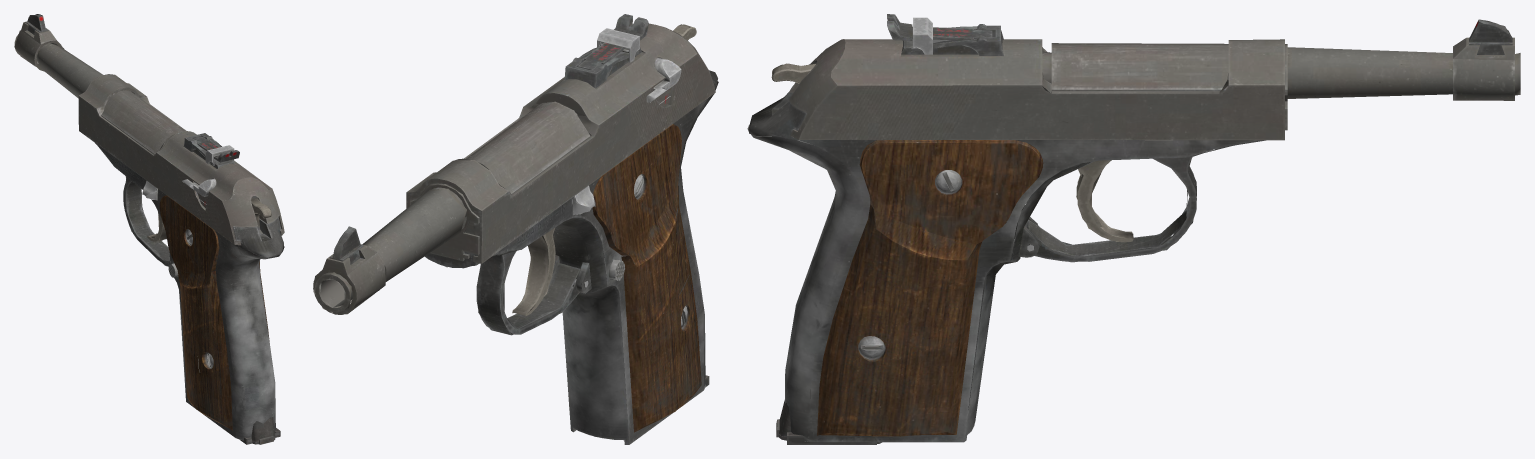
Rendered from pistol_ph.glb.
3 views of the same model, side by side, from view 1: azimuth 30°, elevation 25°; view 2: azimuth 150°, elevation 25°; view 3: azimuth 270°, elevation 25° (orthographic). The views are drawn at different scales.
Parts seen in each view (by area): view 1: frame, slide, magazine, hammer; view 2: frame, slide, trigger; view 3: frame, slide, trigger, magazine.
Boxes of the visible parts, x1,y1,x2,y2 form: frame: (14,14,284,440); slide: (78,74,284,245); magazine: (236,227,280,444); hammer: (251,198,271,234); frame: (313,70,718,444); slide: (406,14,715,263); trigger: (512,228,555,316); frame: (747,19,1520,442); slide: (789,14,1284,140); trigger: (1076,160,1133,242); magazine: (776,389,881,444).
Bounding box in the file's own units: 0.0256 × 0.1046 × 0.1775.
Materials: 1 (1 with a texture image).
